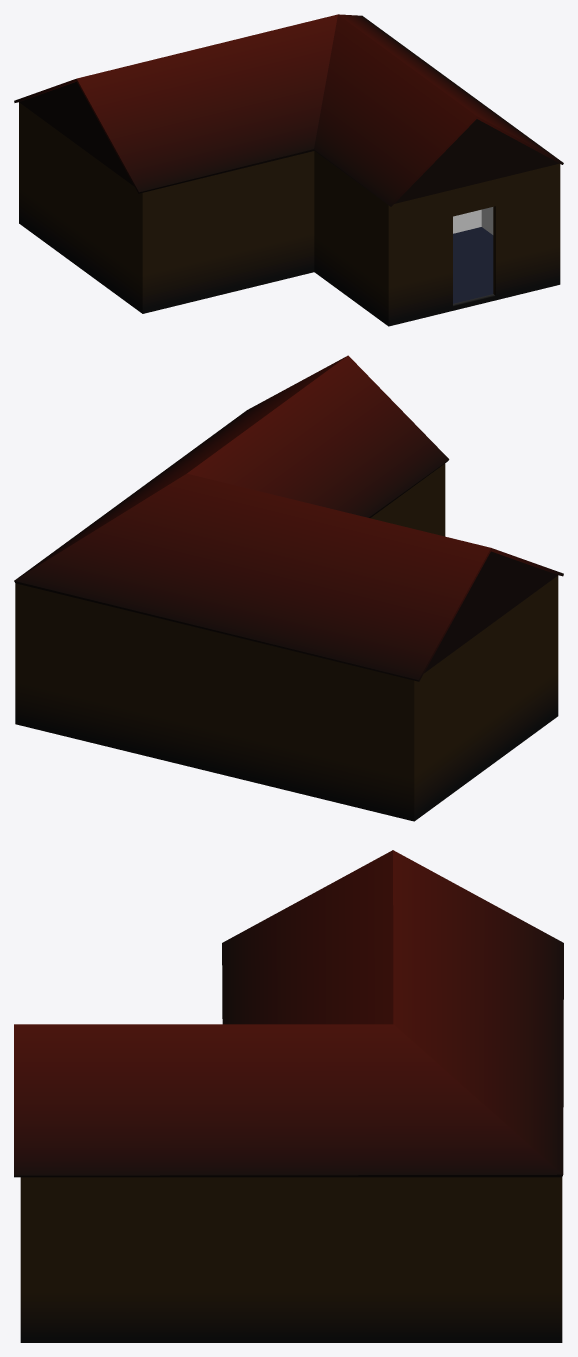
The model's file is house.fbx.
3 views of the same model, one above another, from view 1: azimuth 30°, elevation 25°; view 2: azimuth 150°, elevation 25°; view 3: azimuth 270°, elevation 25° (orthographic). The views are drawn at different scales.
Parts seen in each view (by area): view 1: cabin, roof; view 2: roof, cabin; view 3: roof, cabin.
Part boxes in pixels (x1,y1,x2,y2): cabin: (19,102,560,326); roof: (14,14,563,206); roof: (14,355,563,681); cabin: (15,463,558,821); roof: (14,850,563,1177); cabin: (20,1177,562,1342).
Size of the model in its own units: 813 by 426 by 812.
